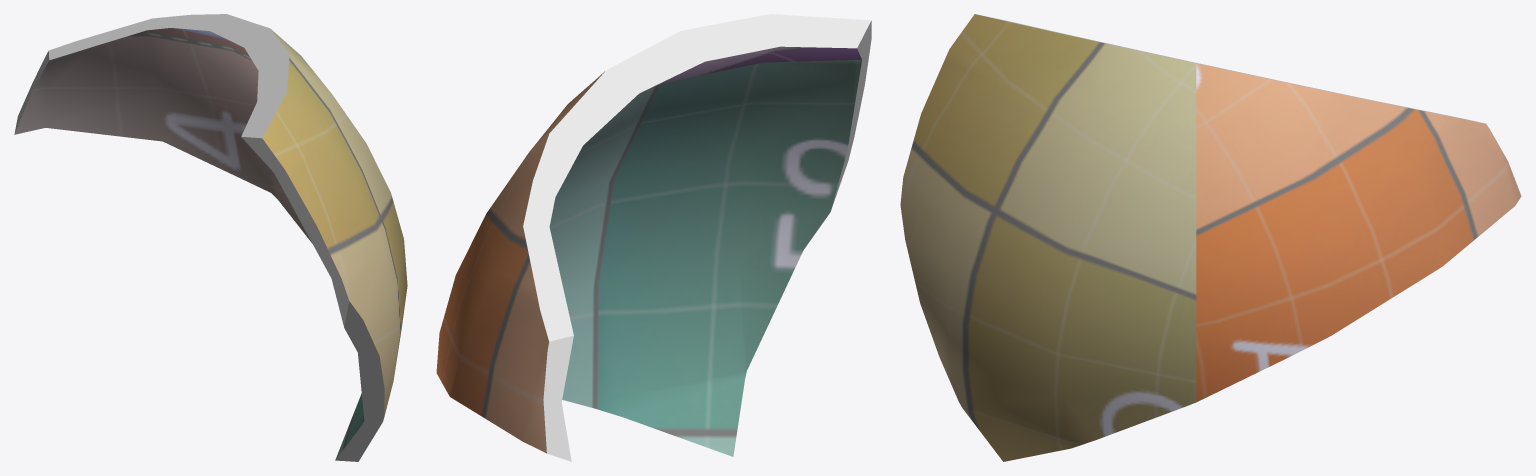
The model's file is LargeVase_SHAT_cell_008 1.fbx.
The picture shows the model from 3 angles, left to right: view 1: azimuth 30°, elevation 25°; view 2: azimuth 150°, elevation 25°; view 3: azimuth 270°, elevation 25°; orthographic projection. The views are drawn at different scales.
Visible parts, largest first — view 1: LargeVase_SHAT_cell_008; view 2: LargeVase_SHAT_cell_008; view 3: LargeVase_SHAT_cell_008.
Boxes of the visible parts, left/top/right/bottom form: LargeVase_SHAT_cell_008: left=14, top=14, right=407, bottom=461; LargeVase_SHAT_cell_008: left=436, top=14, right=871, bottom=461; LargeVase_SHAT_cell_008: left=900, top=14, right=1521, bottom=461.
Bounding box in the file's own units: 0.6331 × 1.07 × 1.49.
Materials: 2 (1 with a texture image).
